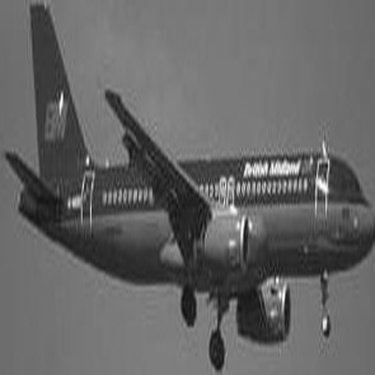airplane: (1, 7, 373, 374)
